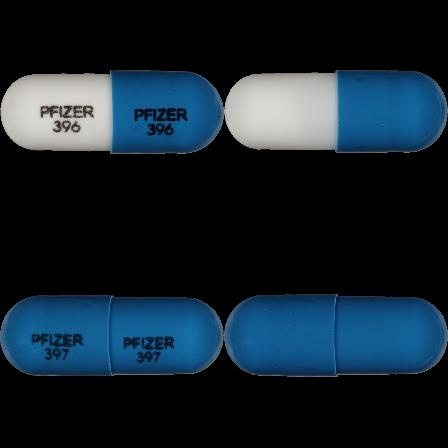53808-0252: (0, 0, 224, 224)
